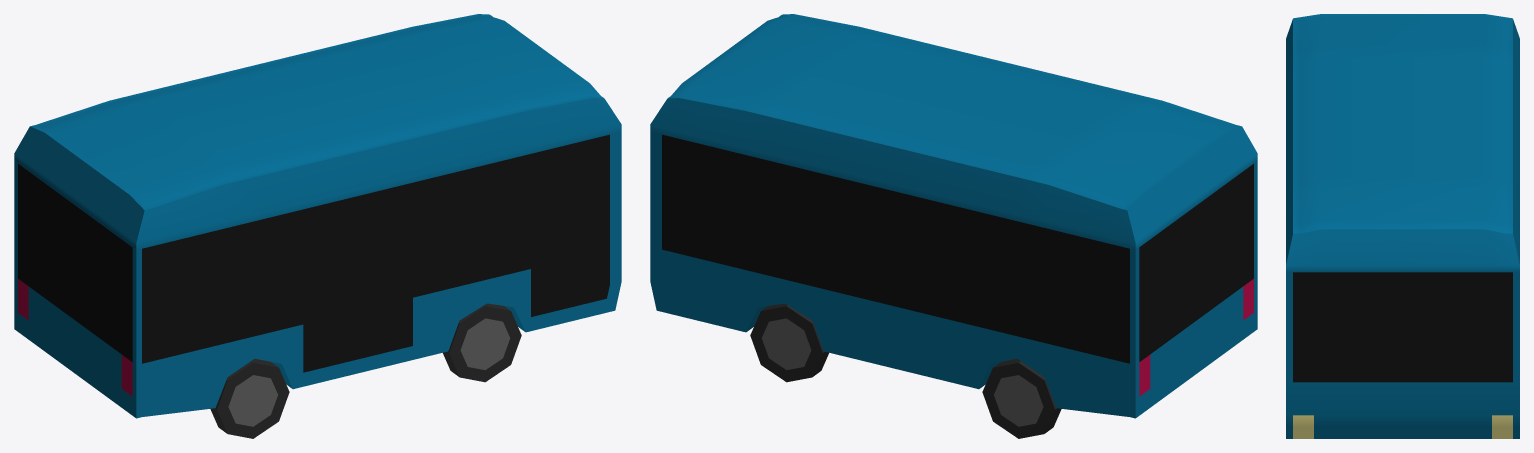
Rendered from Bus_03.fbx.
3 renders of one model, left to right at view 1: azimuth 30°, elevation 25°; view 2: azimuth 150°, elevation 25°; view 3: azimuth 270°, elevation 25°, orthographic. The views are drawn at different scales.
Visible parts, largest first — view 1: Bus_03; view 2: Bus_03; view 3: Bus_03.
Boxes of the visible parts, x1,y1,x2,y2 form: Bus_03: [14, 14, 621, 438]; Bus_03: [650, 14, 1257, 438]; Bus_03: [1286, 14, 1519, 438].
Bounding box in the file's own units: 500 × 260 × 218.
1 material, 1 textured.
